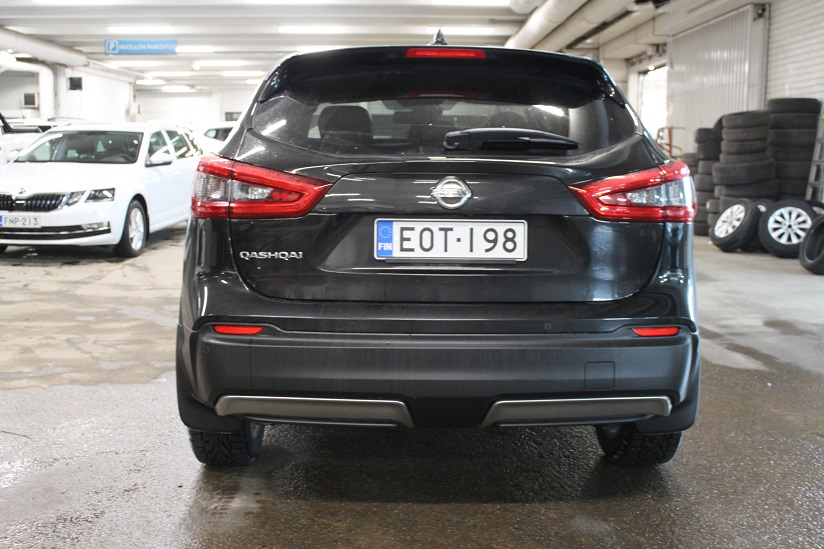license: (371, 217, 526, 261)
